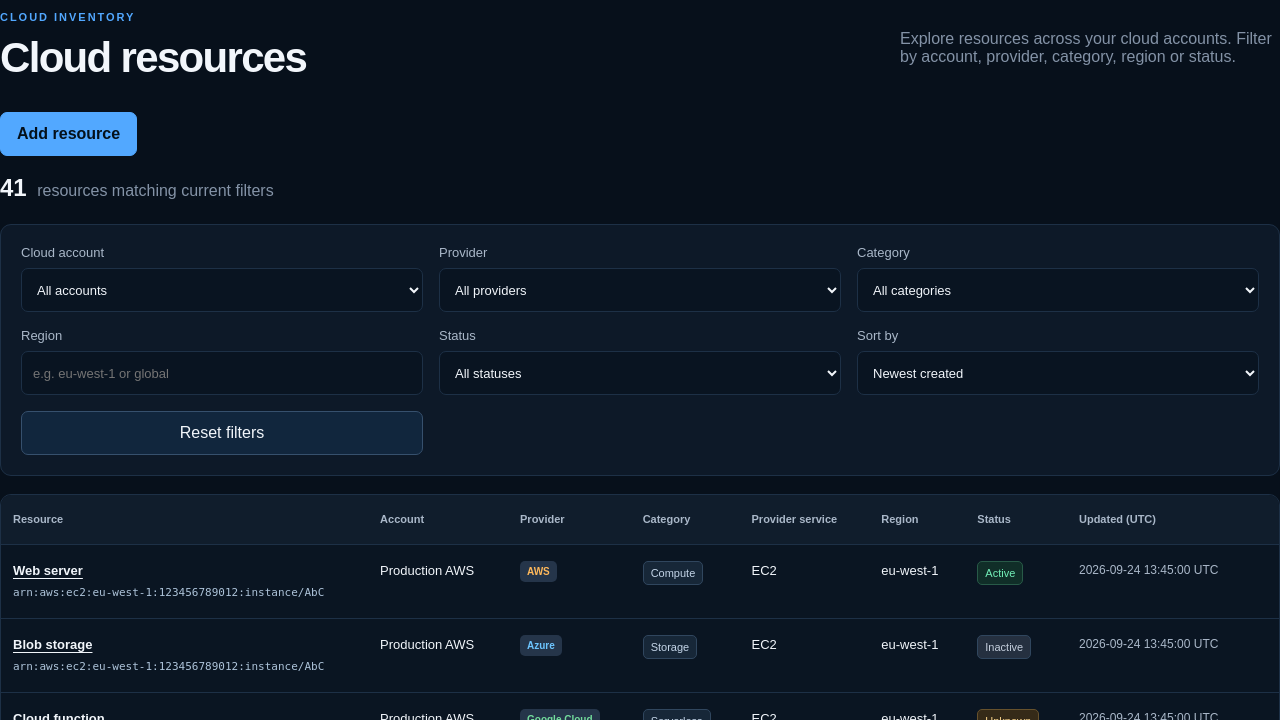
Test: Cloud resource inventory › shows API errors and field messages, and retries the same filtered query
The width and height of the screenshot is (1280, 720).
expect the dropdown labelled "Cloud account" is enabled: met, box [21,268,423,312]
In the field labelled "Region": (222, 373) [21,351,423,395], type "global"
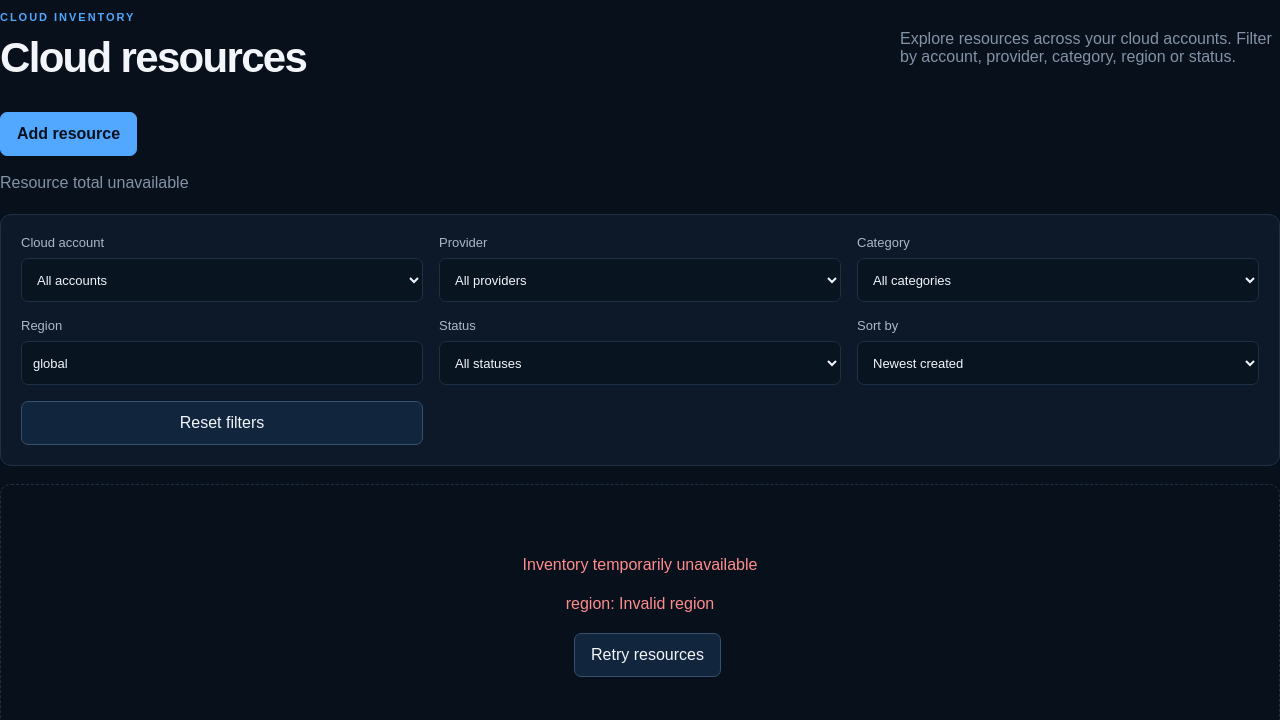
expect the message shows "Inventory temporarily unavailable": met, box [523,556,757,573]
expect the text "Resource total unavailable" is shown: met, box [0,174,189,191]
Click the button "Retry resources": (647, 655) [574,633,721,677]
(page scrolled)
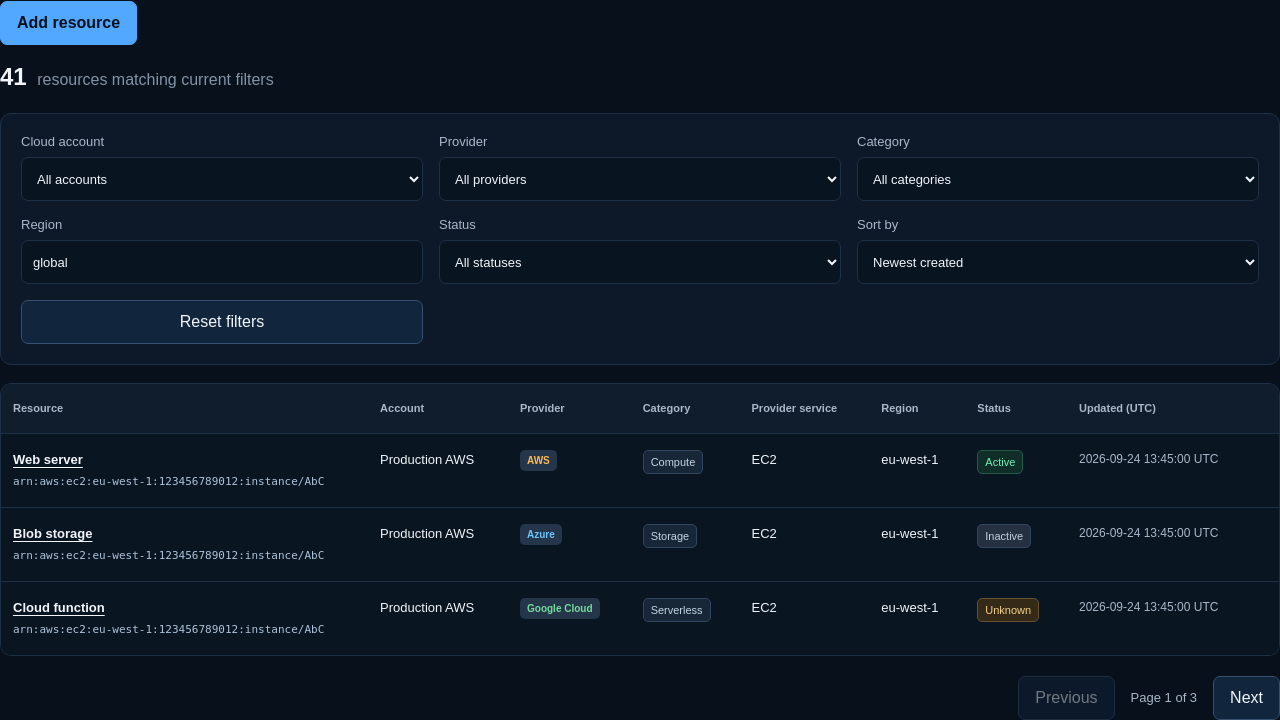
expect the table is shown: met, box [1,384,1279,654]
